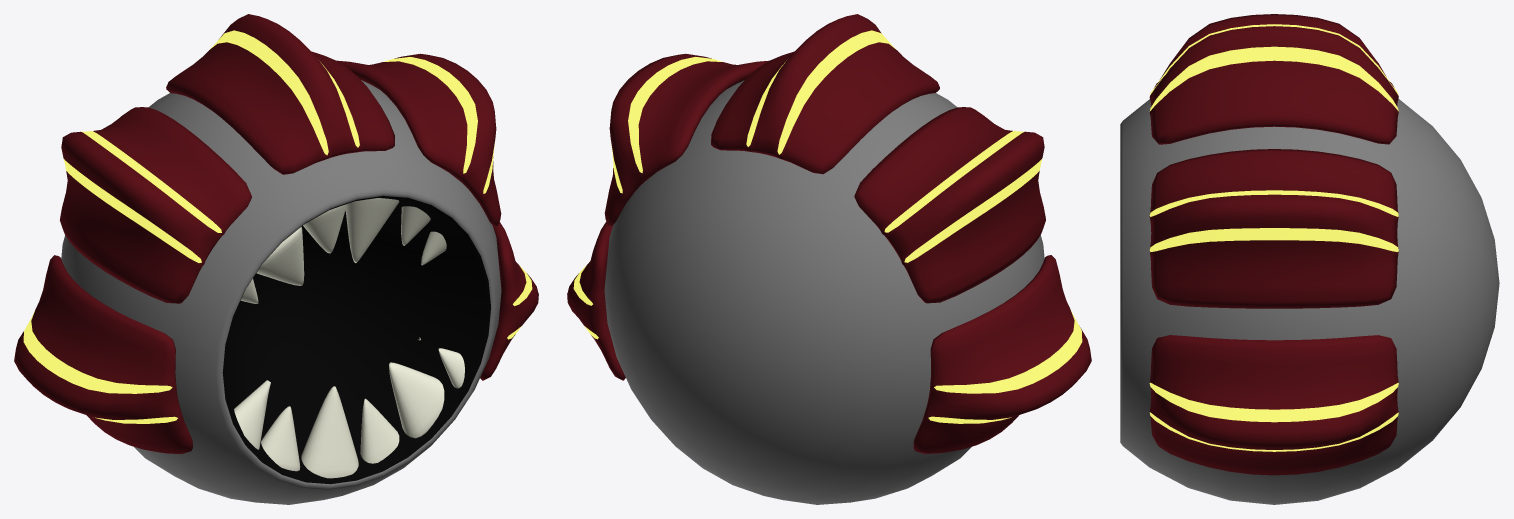
The model's file is Enemy_Basic_Animations.fbx.
The picture shows the model from 3 angles, left to right: view 1: azimuth 30°, elevation 25°; view 2: azimuth 150°, elevation 25°; view 3: azimuth 270°, elevation 25°; orthographic projection.
Visible parts, largest first — view 1: Enemy; view 2: Enemy; view 3: Enemy.
Boxes of the visible parts, <box> form: Enemy: <box>14,14,538,504</box>; Enemy: <box>567,14,1091,504</box>; Enemy: <box>1120,14,1499,504</box>.
Size of the model in its own units: 245 by 223 by 168.
